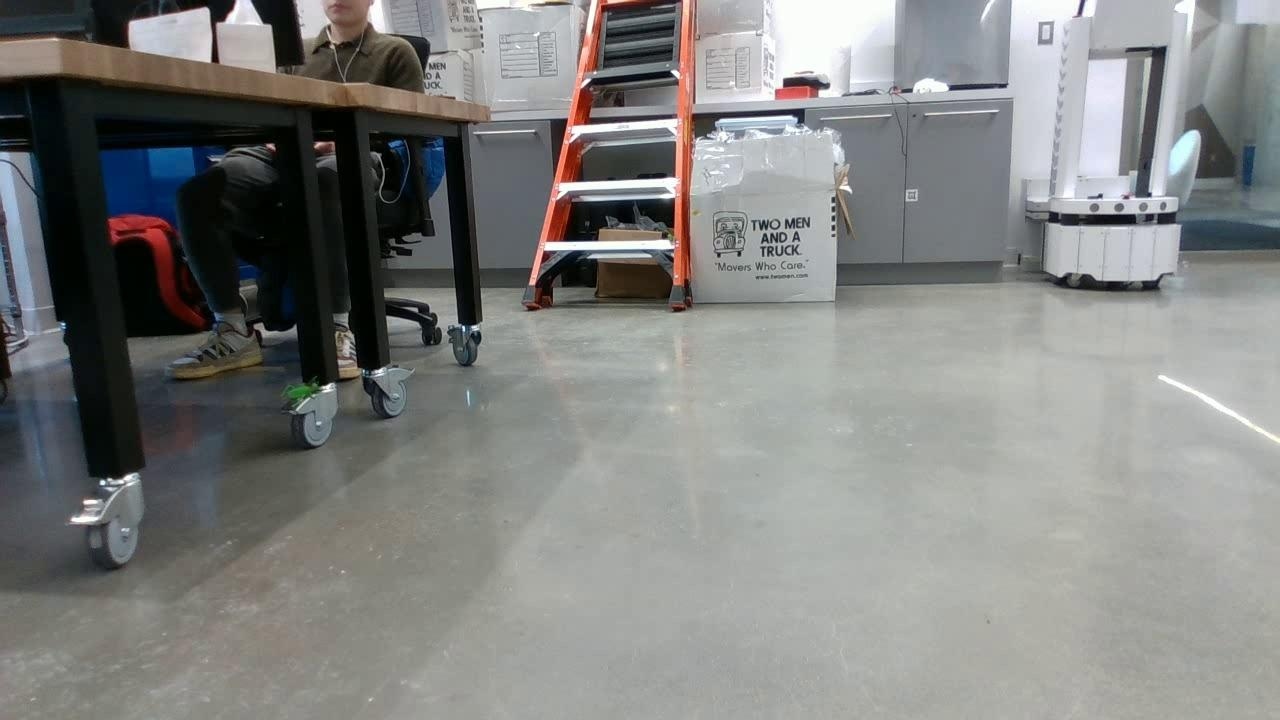grasshopper: (278, 378, 321, 405)
